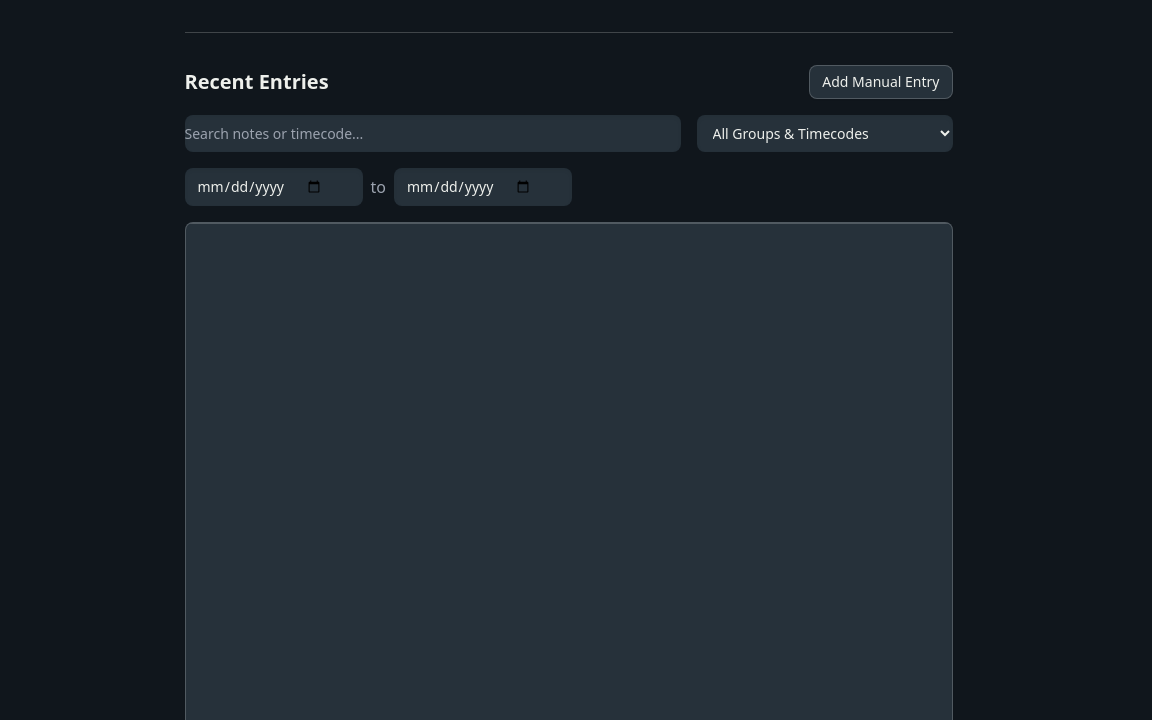
Scenario: every surface answers "how much time this week" with the same number › entry list rounds per day at invoice scope rather than pooling all history
The width and height of the screenshot is (1152, 720).
Step 1. Type "billable" into the field with placeholder "Search notes or timecode..." → {"x": 432, "y": 134}, box x1=184 y1=115 x2=680 y2=152
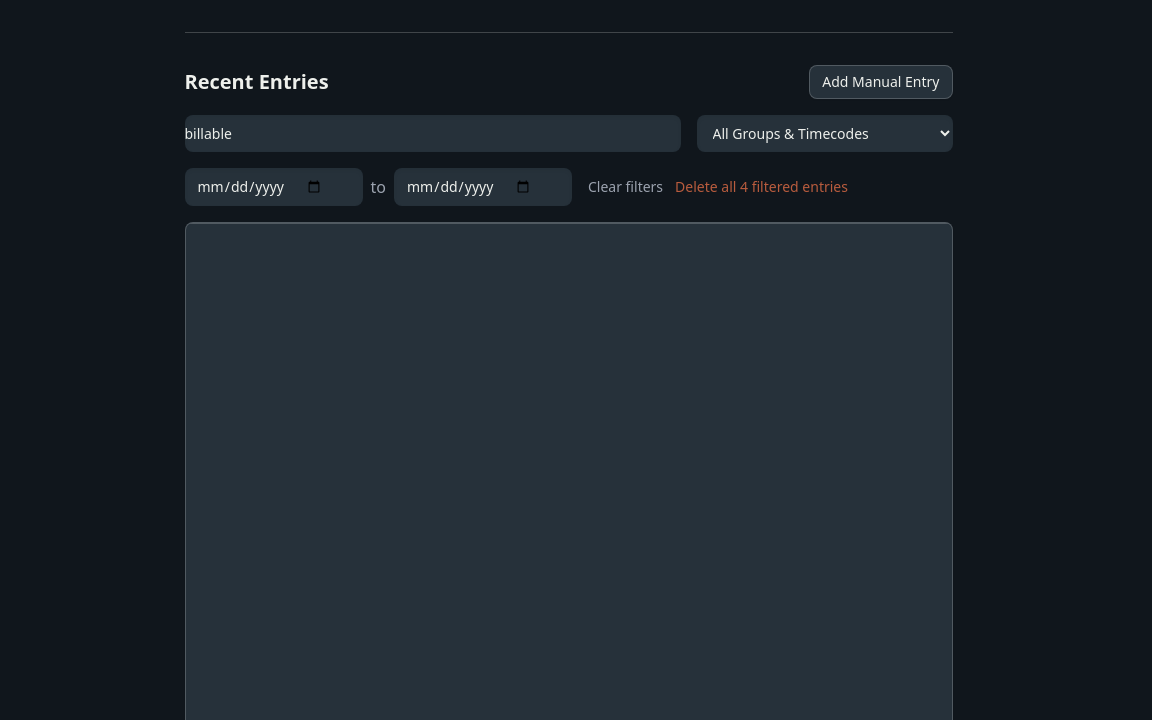
Step 2. Click the button "Delete all 4 filtered entries" → {"x": 762, "y": 187}, box x1=675 y1=177 x2=848 y2=197
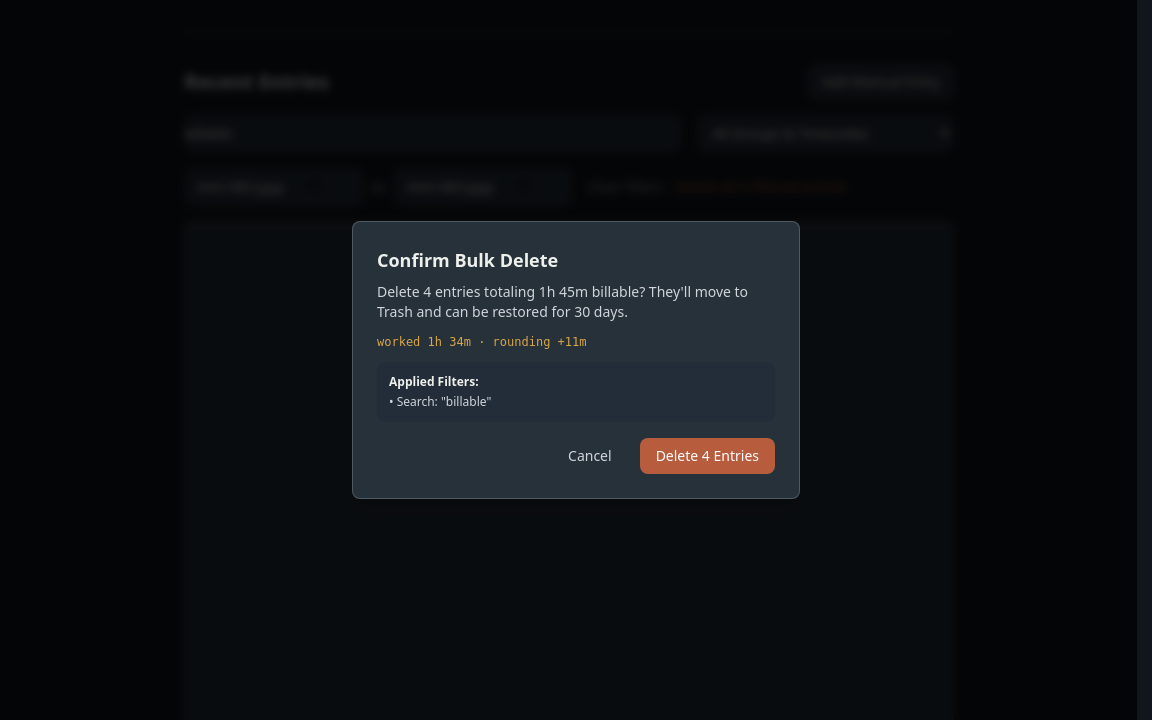
Expected: the text "totaling 1h 45m" is shown, x1=377 y1=282 x2=775 y2=322
